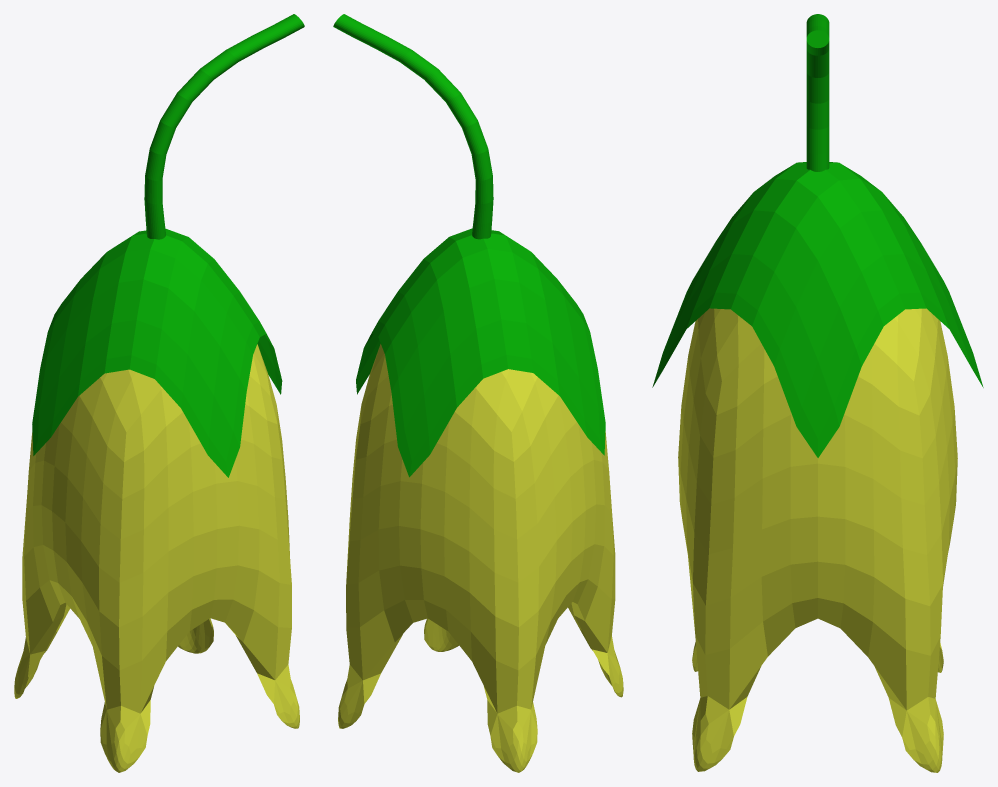
The model's file is ホタルブクロ黄色 (1).fbx.
3 renders of one model, left to right at view 1: azimuth 30°, elevation 25°; view 2: azimuth 150°, elevation 25°; view 3: azimuth 270°, elevation 25°, orthographic. The views are drawn at different scales.
Visible parts, largest first — view 1: Cube.001, Cube, Cylinder; view 2: Cube.001, Cube, Cylinder; view 3: Cube.001, Cube, Cylinder.
Part boxes in pixels (x1,y1,x2,y2): Cube.001: (14, 344, 299, 772); Cube: (32, 228, 282, 477); Cylinder: (144, 14, 304, 239); Cube.001: (338, 344, 623, 772); Cube: (356, 228, 605, 477); Cylinder: (333, 14, 493, 239); Cube.001: (678, 308, 957, 772); Cube: (652, 162, 983, 457); Cylinder: (806, 14, 829, 171).
Bounding box in the file's own units: 337 × 797 × 311.
